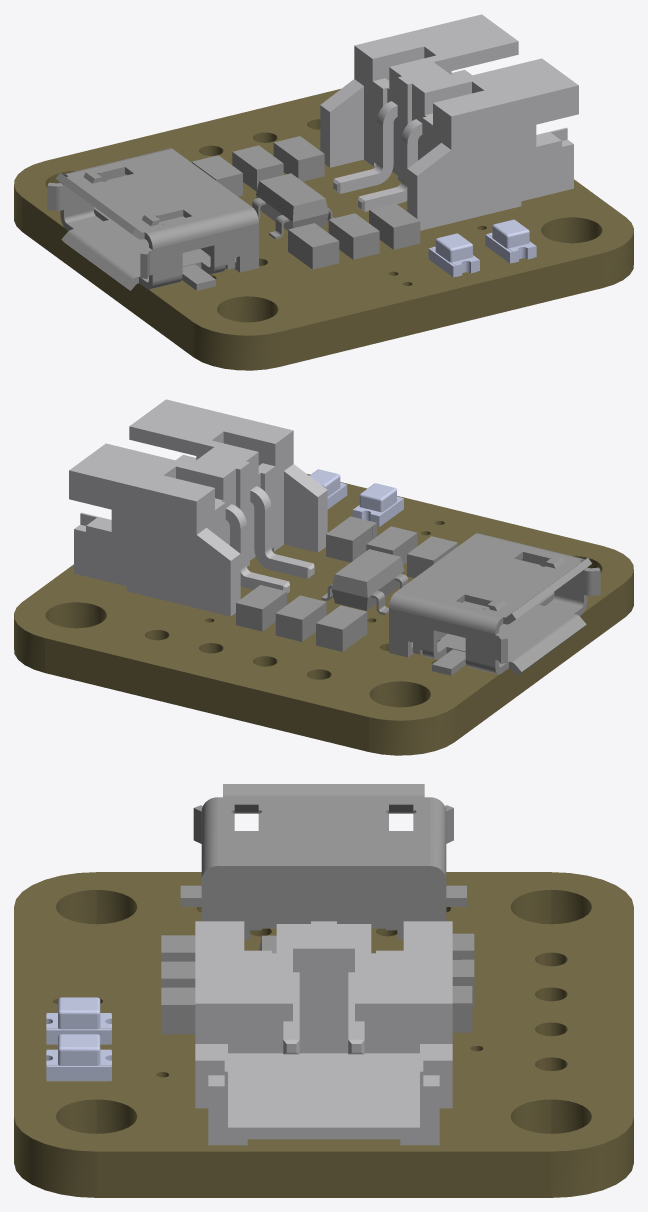
The model's file is ada-1904.glb.
The picture shows the model from 3 angles, top to bottom: view 1: azimuth 30°, elevation 25°; view 2: azimuth 150°, elevation 25°; view 3: azimuth 270°, elevation 25°; orthographic projection. The views are drawn at different scales.
Parts seen in each view (by area): view 1: 0.16666666666666666_0.16666666666666666_0.08333333333333333_, 0.5833333333333334_0.5833333333333334_0.5833333333333334_0.8, 0.3333333333333333_0.3333333333333333_0.3333333333333333_0, 0.5833333333333334_0.6666666666666666_0.8333333333333334_0; view 2: 0.16666666666666666_0.16666666666666666_0.08333333333333333_, 0.5833333333333334_0.5833333333333334_0.5833333333333334_0.8, 0.3333333333333333_0.3333333333333333_0.3333333333333333_0, 0.5833333333333334_0.6666666666666666_0.8333333333333334_0; view 3: 0.16666666666666666_0.16666666666666666_0.08333333333333333_, 0.5833333333333334_0.5833333333333334_0.5833333333333334_0.8, 0.3333333333333333_0.3333333333333333_0.3333333333333333_0, 0.5833333333333334_0.6666666666666666_0.8333333333333334_0.
Part boxes in pixels (<box>): 0.16666666666666666_0.16666666666666666_0.08333333333333333_: <box>14,89,633,370</box>; 0.5833333333333334_0.5833333333333334_0.5833333333333334_0.8: <box>320,14,578,230</box>; 0.3333333333333333_0.3333333333333333_0.3333333333333333_0: <box>47,136,420,290</box>; 0.5833333333333334_0.6666666666666666_0.8333333333333334_0: <box>428,219,536,277</box>; 0.16666666666666666_0.16666666666666666_0.08333333333333333_: <box>14,474,633,755</box>; 0.5833333333333334_0.5833333333333334_0.5833333333333334_0.8: <box>69,399,327,616</box>; 0.3333333333333333_0.3333333333333333_0.3333333333333333_0: <box>236,516,600,675</box>; 0.5833333333333334_0.6666666666666666_0.8333333333333334_0: <box>309,469,403,526</box>; 0.16666666666666666_0.16666666666666666_0.08333333333333333_: <box>14,872,633,1197</box>; 0.5833333333333334_0.5833333333333334_0.5833333333333334_0.8: <box>195,921,452,1145</box>; 0.3333333333333333_0.3333333333333333_0.3333333333333333_0: <box>161,784,474,1034</box>; 0.5833333333333334_0.6666666666666666_0.8333333333333334_0: <box>46,997,111,1081</box>.
Bounding box in the file's own units: 2.1 × 0.637 × 1.9.
